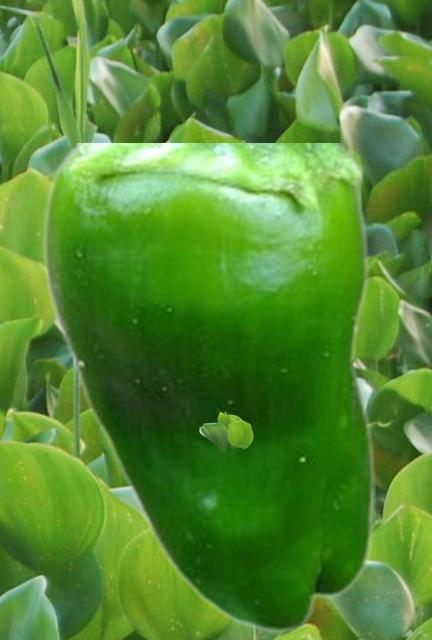green_chili: (40, 143, 374, 633)
